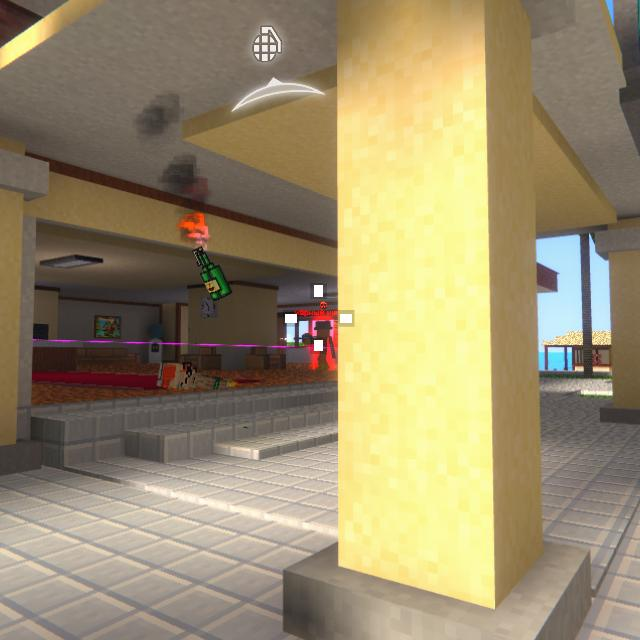Enemy: (306, 321, 333, 371)
